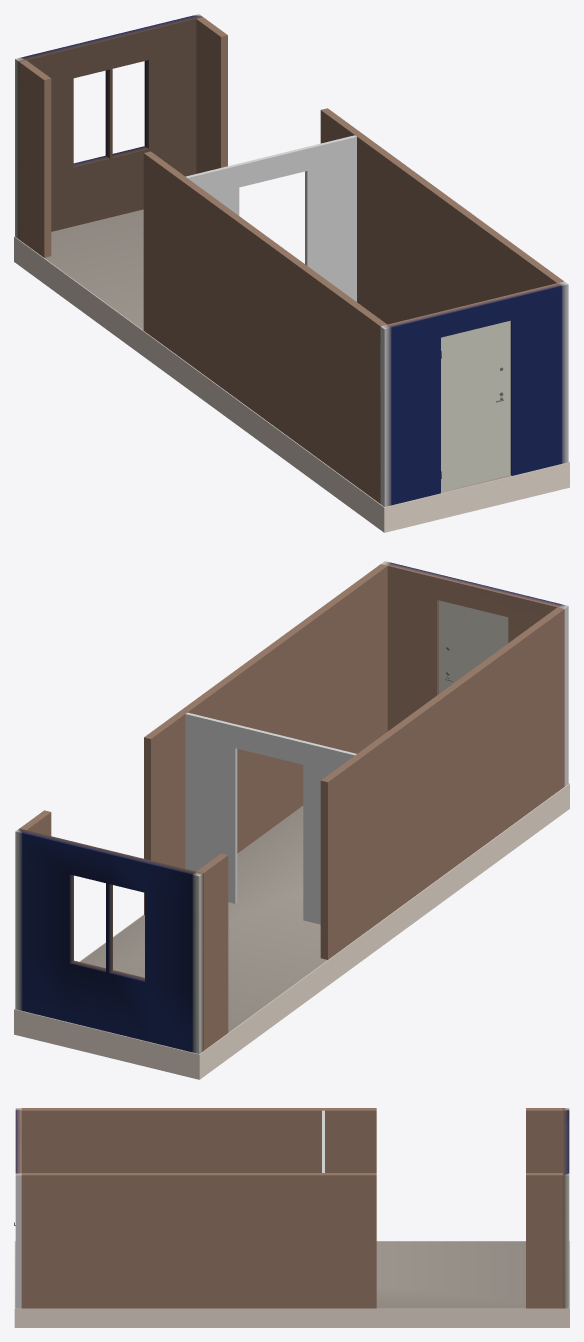
File: Bod2.fbx
3 views of the same model, one above another, from view 1: azimuth 30°, elevation 25°; view 2: azimuth 150°, elevation 25°; view 3: azimuth 270°, elevation 25° (orthographic). The views are drawn at different scales.
Visible parts, largest first — view 1: WallLong1.002, WallLong1.001, WallShortDoor.003, Floor.003, WallShortDoubleWindows.003, Door.002, WallShortDoorInterior.003; view 2: WallLong1.002, WallLong1.001, Floor.003, WallShortDoubleWindows.003, WallShortDoorInterior.003, WallShortDoor.003, Door.002; view 3: WallLong1.001, WallLong1.002, Floor.003, WallShortDoor.003, WallShortDoubleWindows.003.
Boxes of the visible parts, x1=… form: WallLong1.002: x1=19, y1=60, x2=386, y2=503; WallLong1.001: x1=196, y1=17, x2=563, y2=324; WallShortDoor.003: x1=380, y1=281, x2=568, y2=506; Floor.003: x1=14, y1=209, x2=569, y2=532; WallShortDoubleWindows.003: x1=15, y1=14, x2=202, y2=239; Door.002: x1=441, y1=320, x2=510, y2=491; WallShortDoorInterior.003: x1=186, y1=135, x2=356, y2=301; WallLong1.002: x1=197, y1=607, x2=564, y2=1050; WallLong1.001: x1=20, y1=564, x2=387, y2=915; Floor.003: x1=14, y1=783, x2=569, y2=1079; WallShortDoubleWindows.003: x1=15, y1=828, x2=203, y2=1053; WallShortDoorInterior.003: x1=185, y1=712, x2=356, y2=924; WallShortDoor.003: x1=381, y1=561, x2=568, y2=786; Door.002: x1=439, y1=600, x2=508, y2=693; WallLong1.001: x1=21, y1=1173, x2=563, y2=1308; WallLong1.002: x1=21, y1=1108, x2=562, y2=1172; Floor.003: x1=14, y1=1241, x2=569, y2=1327; WallShortDoor.003: x1=15, y1=1108, x2=21, y2=1308; WallShortDoubleWindows.003: x1=563, y1=1108, x2=569, y2=1308.
Size of the model in its own units: 262 by 274 by 906.
